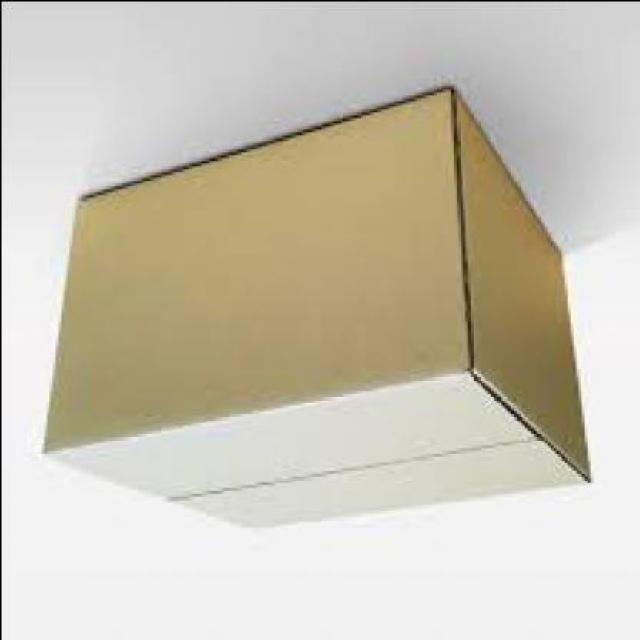CARDBOARD: (37, 89, 586, 532), (39, 89, 467, 452), (42, 372, 584, 530), (453, 91, 589, 483)
